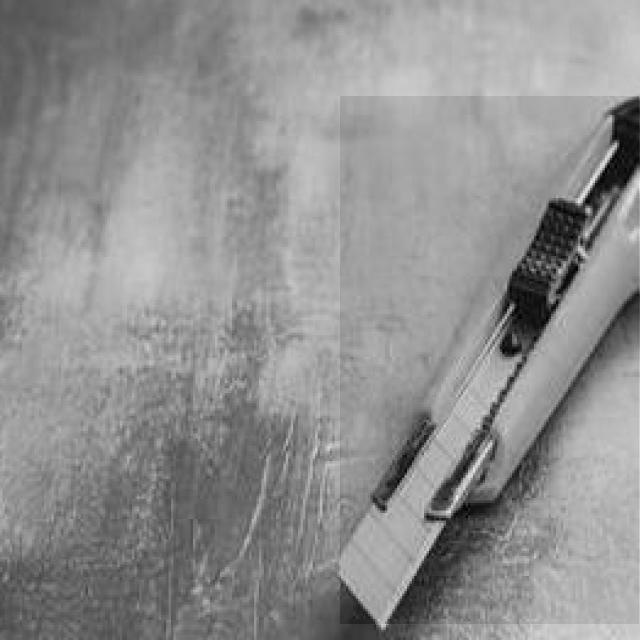estilete: (341, 97, 639, 624)
